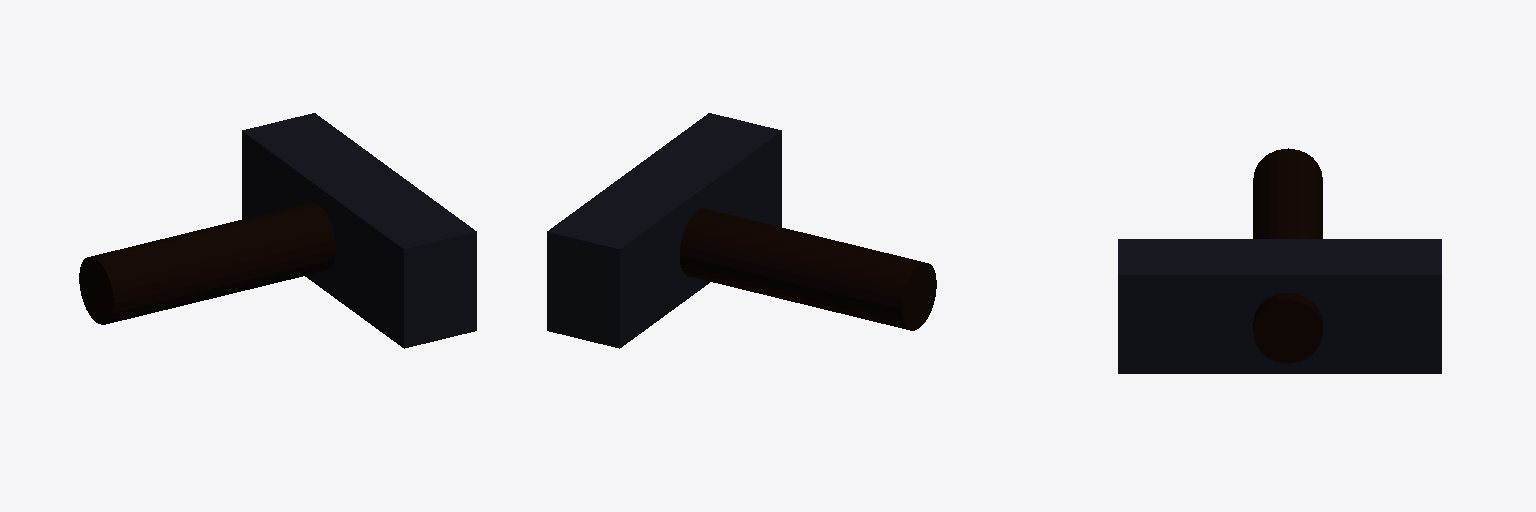
File: hamma.obj
The picture shows the model from 3 angles: view 1: azimuth 30°, elevation 25°; view 2: azimuth 150°, elevation 25°; view 3: azimuth 270°, elevation 25°; orthographic projection.
Visible parts, largest first — view 1: Part2, Part1; view 2: Part2, Part1; view 3: Part2, Part1.
Boxes of the visible parts, x1,y1,x2,y2 form: Part2: [242, 113, 476, 348]; Part1: [79, 203, 335, 324]; Part2: [547, 113, 781, 348]; Part1: [680, 209, 936, 330]; Part2: [1118, 239, 1441, 373]; Part1: [1253, 148, 1322, 363].
Size of the model in its own units: 2 by 0.61 by 1.81.